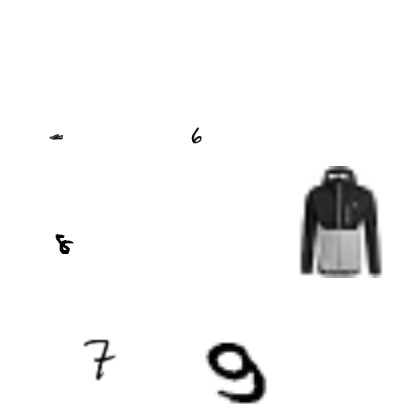6: (185, 126, 207, 148)
7: (72, 328, 128, 384)
8: (49, 230, 77, 258)
9: (194, 328, 278, 412)
Coat: (285, 166, 397, 278)
Sneaker: (49, 130, 63, 144)
